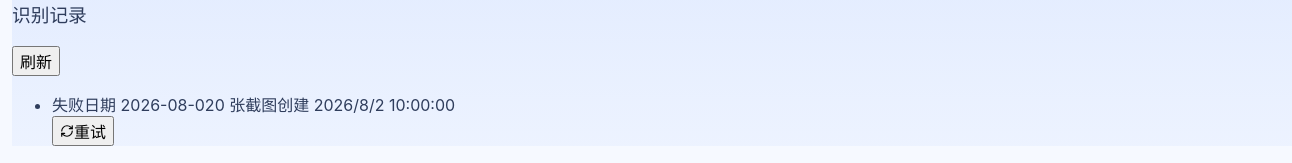
Test case: retries a failed batch and reloads the list
The image size is (1292, 163).
Click the button with aria-label "重试批次": (83, 131) [52, 116, 114, 146]
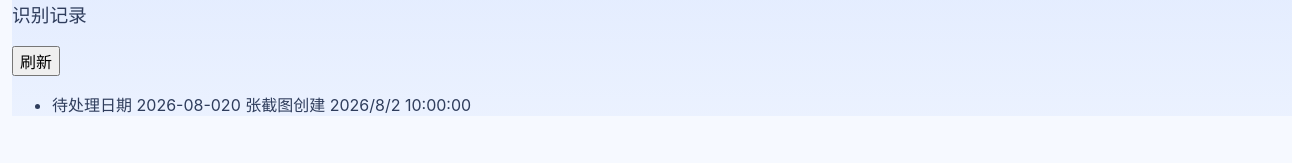
Check: the text "待处理" is shown, box [52, 95, 100, 115]
